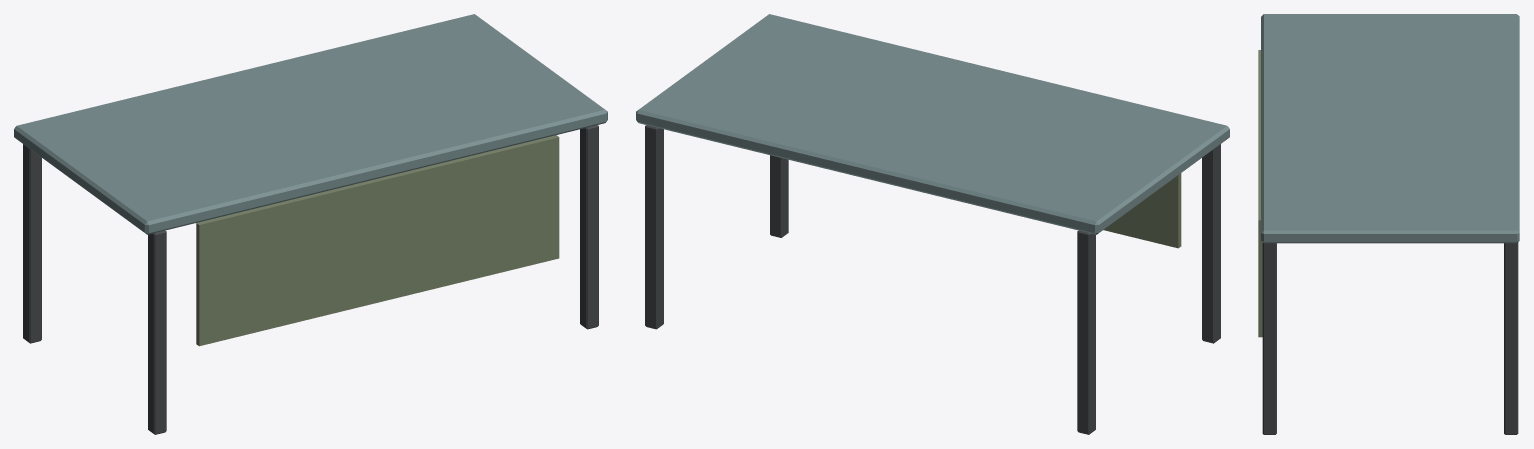
Rendered from concept_table.glb.
3 renders of one model, left to right at view 1: azimuth 30°, elevation 25°; view 2: azimuth 150°, elevation 25°; view 3: azimuth 270°, elevation 25°, orthographic. The views are drawn at different scales.
Parts seen in each view (by area): view 1: concept_table; view 2: concept_table; view 3: concept_table.
Part boxes in pixels (left/top/right/bottom): concept_table: left=14, top=14, right=607, bottom=434; concept_table: left=636, top=14, right=1229, bottom=434; concept_table: left=1258, top=14, right=1519, bottom=434.
Bounding box in the file's own units: 1.8 × 0.8 × 0.91.
